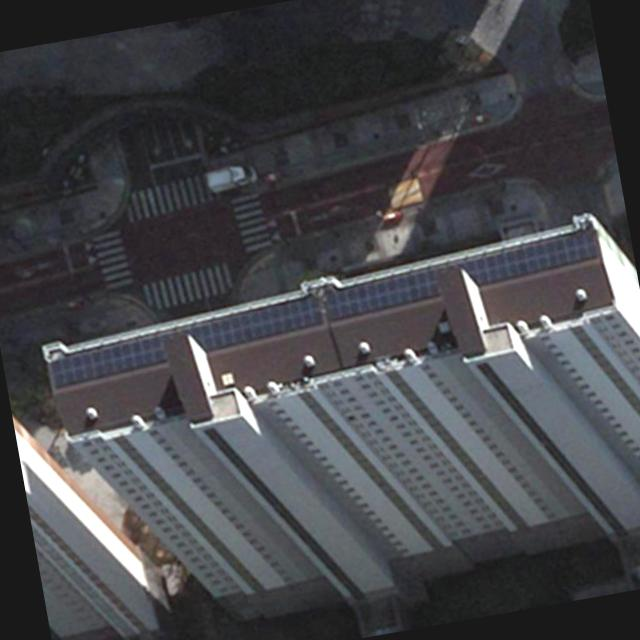solar: (315, 219, 605, 333), (42, 286, 330, 392)
